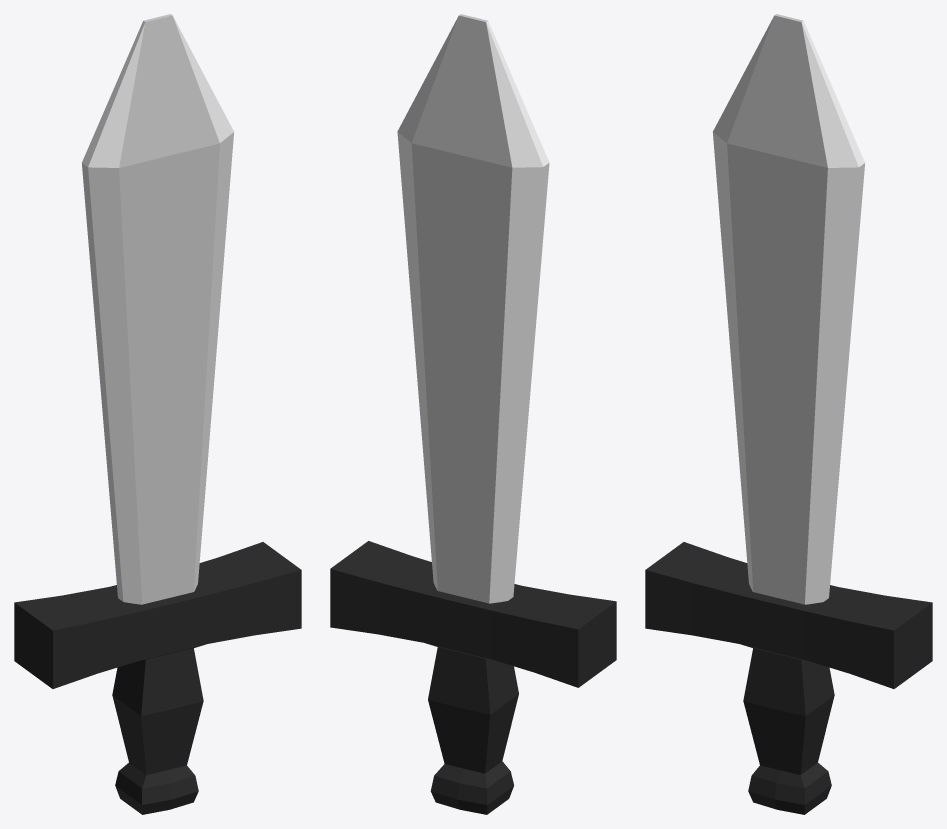
Rendered from Pointer_05_Sword.fbx.
3 views of the same model, side by side, from view 1: azimuth 30°, elevation 25°; view 2: azimuth 150°, elevation 25°; view 3: azimuth 330°, elevation 25° (orthographic).
Parts seen in each view (by area): view 1: Pointer_05_Sword; view 2: Pointer_05_Sword; view 3: Pointer_05_Sword.
Part boxes in pixels (x1,y1,x2,y2): Pointer_05_Sword: (14,14,301,814); Pointer_05_Sword: (330,14,616,814); Pointer_05_Sword: (645,14,932,814).
Bounding box in the file's own units: 0.3107 × 0.942 × 0.0831.
